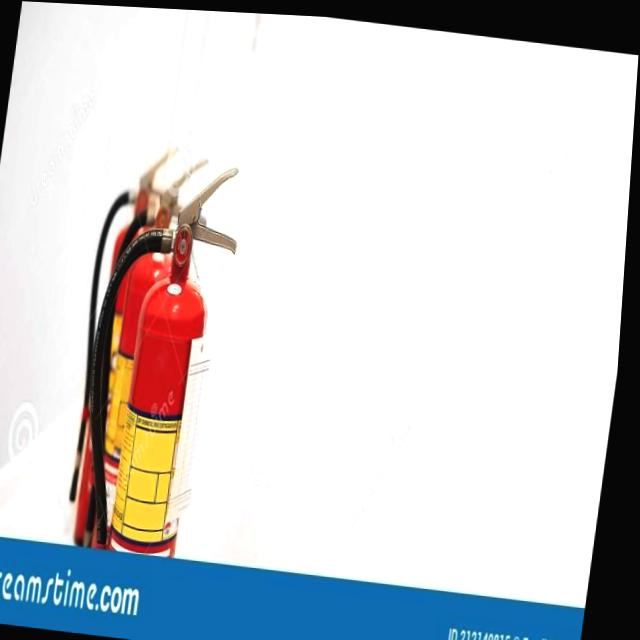FireExtinguisher: (72, 146, 256, 560), (73, 138, 222, 559)
